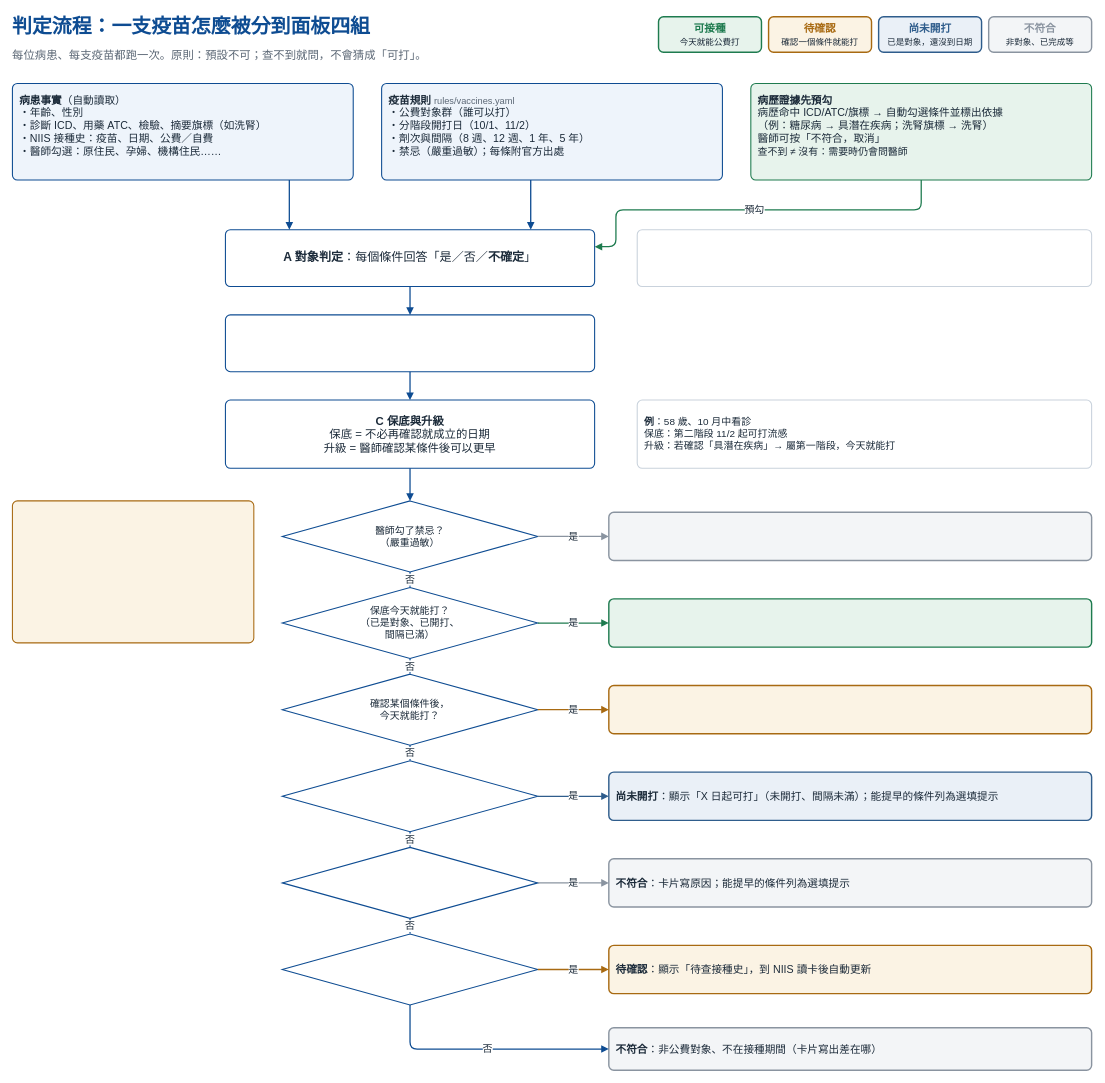
The diagram is 1105 pixels wide and 1083 high, and some of its shapes have lost their labels. The centre of each missing label's shape, as x and y in pixels:
B 劑次判定 ：依 NIIS 接種史算下一劑與最早可打日: the point at 410,343
「不確定」不是「否」 ：資料查不到（接種史未查、原住民身分等） → 回「需確認」，不會誤判成可打，也不會直接判不符合: the point at 864,258
不符合 ：禁忌，不列入可打: the point at 850,536
保底有日期， 但還沒到？: the point at 409,796
可接種 ：今天就能公費打， 不再問任何條件: the point at 850,623
已完成／不再公費？ 或確認後也要 等到以後？: the point at 409,883
待確認 ：卡片上行「未確認前 X 日起」；框內「若確認任一 → 今天可打」，按「是／否」: the point at 850,709
由上往下問，第一個「是」就決定組別。 只有「確認後今天就能打」才會問醫師（放待確認）。 確認了也要等到以後的條件，只當選填提示，不打斷看診。: the point at 133,571
資料不足或需醫師 評估？（接種史未查等）: the point at 409,969
